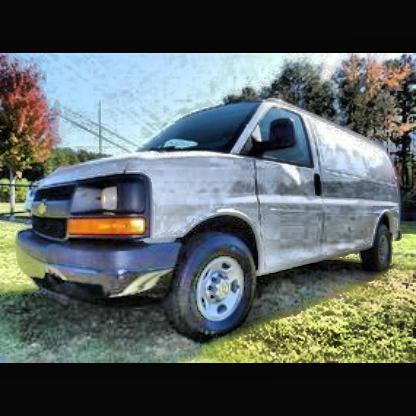Chevrolet Express Van 2007: (13, 94, 408, 346)
